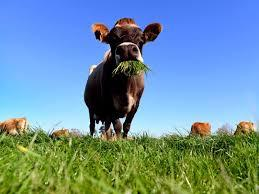cow: (83, 23, 163, 143), (0, 118, 28, 135)
